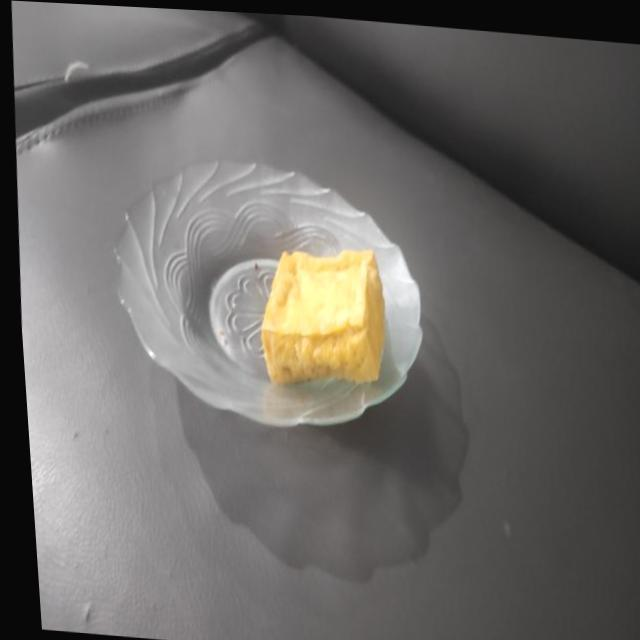tahu_goreng: (261, 250, 384, 384)
